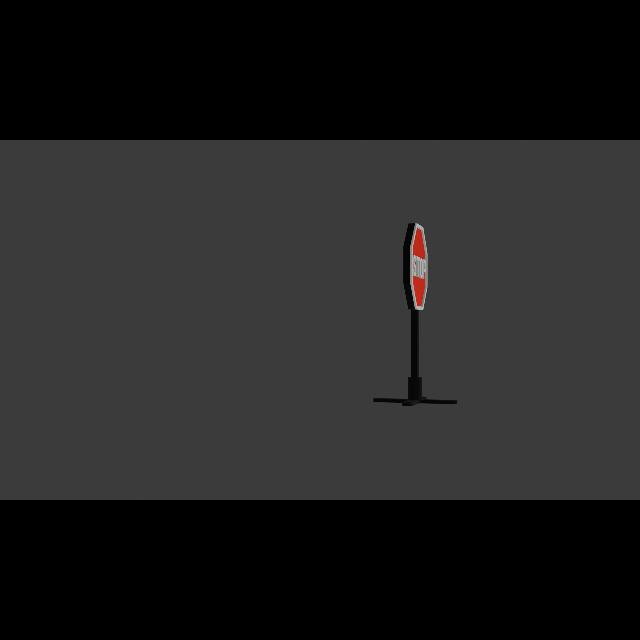sign_stop: (409, 223, 431, 313)
